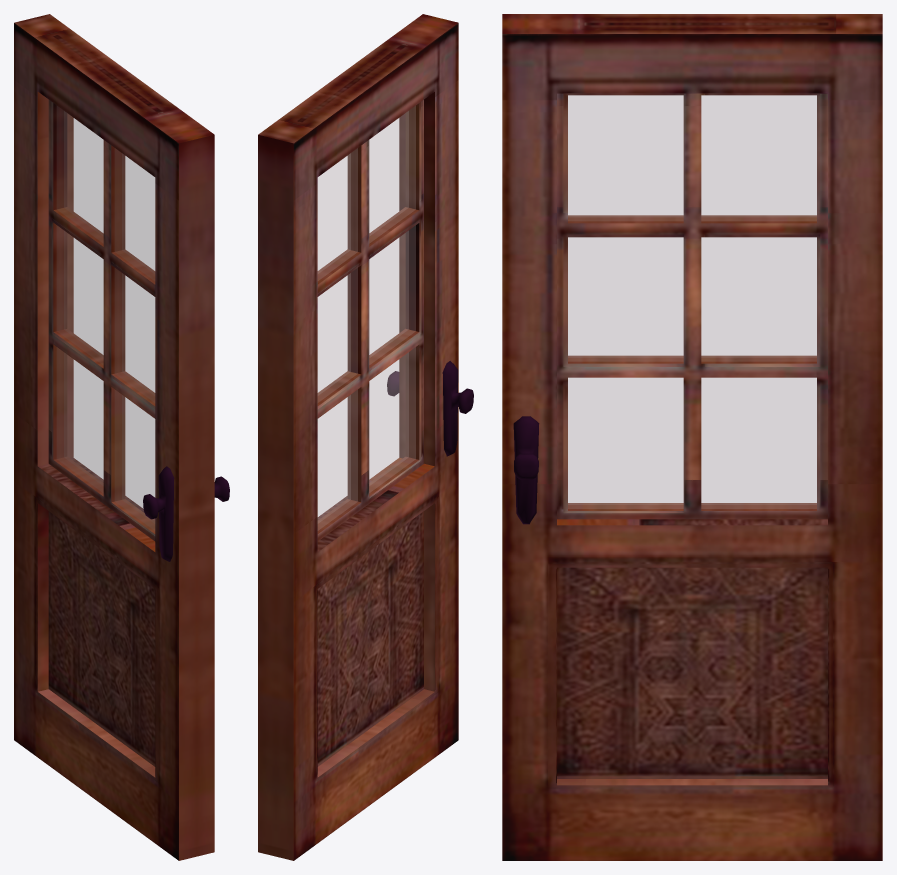
The model's file is Puerta_Cristal_Entera.fbx.
The picture shows the model from 3 angles, left to right: view 1: azimuth 30°, elevation 25°; view 2: azimuth 150°, elevation 25°; view 3: azimuth 270°, elevation 25°; orthographic projection. The views are drawn at different scales.
Parts seen in each view (by area): view 1: Glass_Door, MangoPuerta; view 2: Glass_Door, MangoPuerta; view 3: Glass_Door, MangoPuerta.
Boxes of the visible parts, left/top/right/bottom form: Glass_Door: left=14, top=14, right=214, bottom=860; MangoPuerta: left=143, top=466, right=229, bottom=561; Glass_Door: left=258, top=14, right=458, bottom=860; MangoPuerta: left=387, top=361, right=473, bottom=456; Glass_Door: left=502, top=14, right=882, bottom=860; MangoPuerta: left=513, top=416, right=539, bottom=524.
Size of the model in its own units: 27.74 by 240 by 100.
